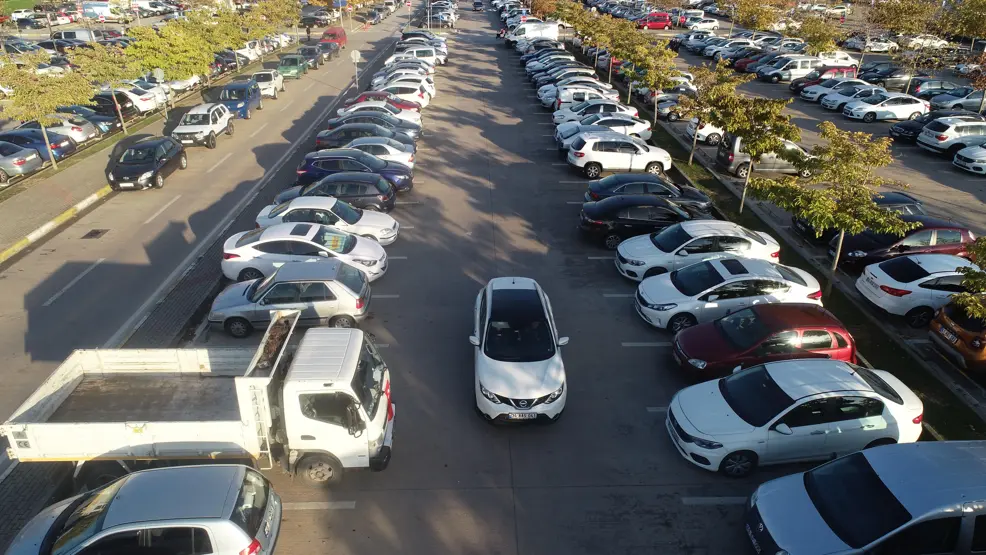Car: (0, 311, 397, 490), (666, 360, 924, 477), (744, 441, 986, 555), (5, 465, 282, 555), (634, 256, 823, 333), (469, 277, 569, 422), (672, 303, 857, 379), (208, 259, 371, 338), (615, 220, 781, 282), (855, 254, 986, 329), (222, 223, 388, 281), (829, 214, 978, 272), (579, 195, 716, 249), (791, 191, 930, 244), (256, 196, 400, 246), (296, 148, 413, 193), (273, 172, 396, 214), (583, 172, 712, 212), (567, 132, 672, 179), (716, 132, 821, 179), (108, 136, 187, 191), (888, 109, 986, 143), (916, 116, 986, 159), (554, 112, 652, 142), (171, 103, 234, 149), (327, 111, 423, 141), (315, 123, 416, 151), (842, 92, 930, 123), (13, 114, 97, 145), (0, 127, 76, 161), (340, 137, 416, 170), (558, 125, 647, 152), (337, 101, 422, 129), (552, 99, 639, 126), (542, 83, 620, 111), (56, 105, 122, 137), (101, 79, 168, 108), (789, 66, 857, 94), (821, 84, 888, 112), (537, 76, 612, 101), (759, 56, 823, 85), (82, 91, 138, 124), (217, 79, 263, 119), (800, 78, 870, 104), (0, 140, 42, 183), (744, 52, 807, 78), (344, 92, 421, 113), (859, 67, 931, 89), (928, 85, 986, 112), (555, 85, 614, 111), (536, 68, 599, 92), (627, 71, 694, 93), (505, 21, 558, 48), (373, 83, 430, 108), (531, 65, 594, 87), (0, 59, 67, 79), (382, 75, 437, 99), (635, 77, 697, 98), (114, 86, 158, 115), (527, 60, 587, 81), (908, 78, 959, 101), (82, 1, 133, 24), (393, 44, 448, 65), (953, 140, 986, 175), (644, 85, 698, 106), (369, 67, 428, 86), (657, 101, 713, 121), (892, 49, 945, 70), (686, 117, 725, 145), (251, 69, 285, 99), (704, 38, 755, 58), (137, 77, 171, 106), (525, 55, 576, 74), (372, 63, 429, 79), (519, 48, 565, 67), (516, 38, 566, 55), (724, 48, 766, 68), (380, 59, 435, 74), (46, 27, 104, 41), (857, 61, 904, 78), (395, 41, 448, 56), (903, 34, 949, 51), (276, 55, 308, 79), (854, 36, 899, 53), (818, 51, 859, 69), (714, 45, 762, 60), (734, 53, 770, 72), (401, 46, 436, 65), (691, 37, 726, 56), (526, 51, 573, 65), (296, 46, 324, 69), (36, 39, 76, 55), (767, 17, 802, 35), (214, 48, 250, 65), (845, 33, 883, 49), (762, 38, 805, 52), (941, 46, 971, 66), (319, 27, 346, 49), (524, 42, 568, 55), (0, 41, 37, 55), (236, 41, 259, 63), (152, 16, 188, 30), (137, 1, 170, 16), (315, 42, 341, 61), (287, 16, 328, 28), (410, 29, 447, 42), (672, 9, 704, 24), (28, 11, 58, 27), (685, 36, 715, 51), (507, 17, 544, 29), (637, 17, 671, 30), (403, 37, 447, 47), (766, 41, 802, 53), (674, 29, 717, 39), (385, 54, 420, 66), (48, 55, 79, 68), (420, 16, 453, 28), (624, 69, 646, 87), (953, 63, 986, 75), (686, 18, 719, 30), (638, 12, 671, 24), (614, 62, 642, 76), (500, 8, 530, 21), (307, 11, 337, 24), (400, 32, 441, 41), (682, 33, 710, 46), (782, 43, 810, 56), (61, 39, 94, 50), (308, 7, 340, 18), (171, 81, 191, 98), (504, 9, 531, 21), (11, 8, 35, 21), (27, 44, 58, 54), (214, 53, 229, 73), (97, 40, 130, 49), (16, 18, 43, 29), (753, 36, 779, 47), (433, 11, 456, 23), (607, 57, 624, 73), (183, 76, 202, 90), (424, 6, 450, 16), (496, 0, 524, 9), (222, 58, 243, 70), (506, 14, 533, 23), (164, 0, 186, 11), (107, 36, 137, 44), (824, 6, 848, 16), (597, 3, 617, 15), (364, 11, 381, 25), (612, 7, 633, 18), (0, 84, 14, 100), (741, 31, 769, 39), (33, 4, 57, 13), (54, 3, 75, 13), (591, 49, 606, 63), (683, 16, 702, 27), (681, 0, 703, 9), (373, 6, 387, 20), (627, 13, 651, 21), (55, 12, 71, 24), (695, 0, 714, 10), (503, 4, 524, 13), (557, 18, 574, 29), (972, 41, 986, 54), (597, 53, 609, 68), (274, 36, 289, 48), (252, 38, 262, 56), (100, 29, 122, 37), (730, 30, 752, 38), (495, 0, 516, 8), (265, 37, 279, 49), (67, 11, 82, 22), (384, 0, 397, 12), (608, 5, 625, 14), (139, 6, 154, 16), (621, 10, 639, 18), (596, 1, 614, 9), (649, 5, 667, 13), (633, 0, 646, 11), (809, 4, 826, 12), (703, 3, 718, 12), (667, 7, 682, 16), (164, 3, 179, 12), (61, 12, 73, 23), (641, 2, 654, 12), (281, 33, 294, 43), (442, 2, 458, 10), (235, 8, 253, 15), (472, 0, 483, 11), (628, 11, 643, 19), (573, 31, 581, 46), (262, 39, 270, 54), (590, 0, 607, 7), (102, 31, 114, 40), (587, 47, 597, 57), (429, 1, 448, 6), (798, 4, 811, 11), (581, 45, 591, 54), (139, 8, 148, 18), (0, 15, 11, 23), (647, 4, 655, 13), (431, 3, 448, 7), (628, 0, 639, 6), (383, 7, 391, 15), (491, 0, 503, 5), (717, 10, 727, 16), (616, 0, 625, 6), (301, 0, 308, 7), (396, 0, 402, 8), (624, 0, 632, 6), (713, 7, 719, 14), (588, 0, 596, 5), (709, 7, 715, 13), (270, 45, 275, 52)
